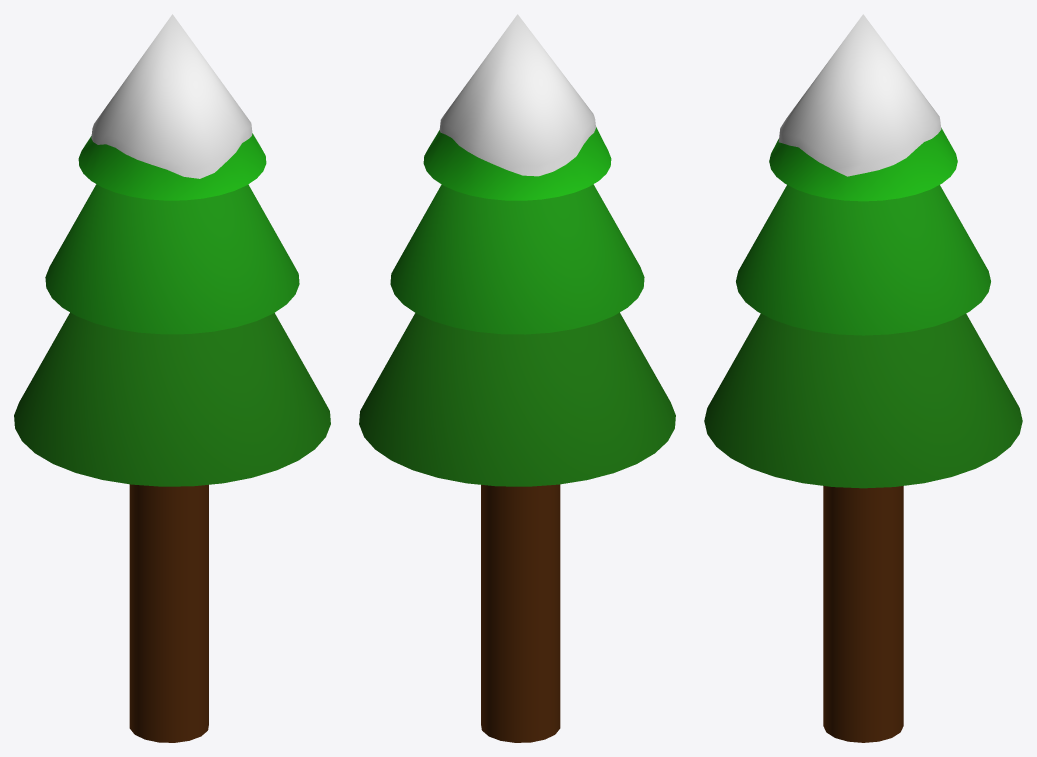
File: snow tree 1.fbx
3 views of the same model, side by side, from view 1: azimuth 30°, elevation 25°; view 2: azimuth 150°, elevation 25°; view 3: azimuth 270°, elevation 25° (orthographic).
Visible parts, largest first — view 1: snow tree 1; view 2: snow tree 1; view 3: snow tree 1.
Part boxes in pixels (<box>): snow tree 1: <box>14,14,330,742</box>; snow tree 1: <box>359,14,675,742</box>; snow tree 1: <box>704,14,1022,742</box>.
Bounding box in the file's own units: 219 × 540 × 219.
